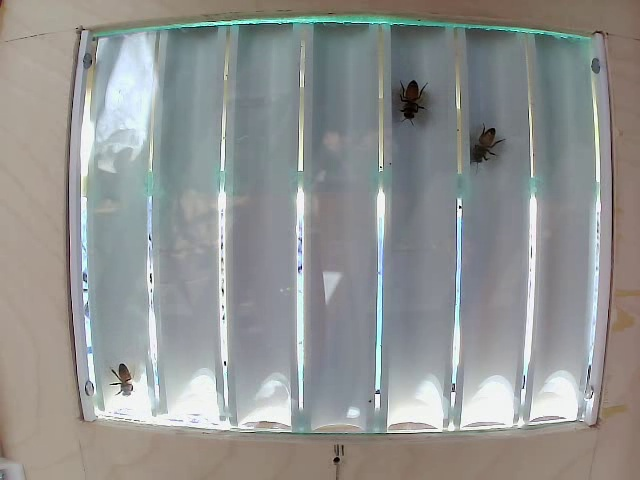bee: (110, 349, 148, 404), (396, 86, 437, 135), (474, 126, 509, 171)
